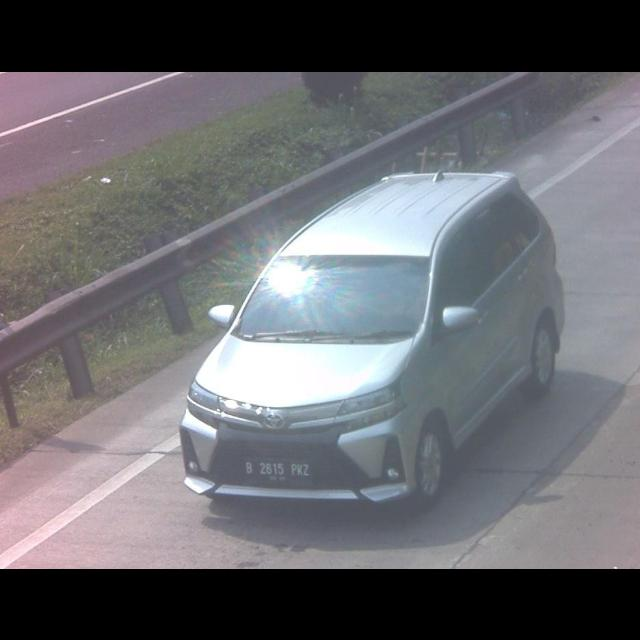plate: (242, 457, 310, 485)
